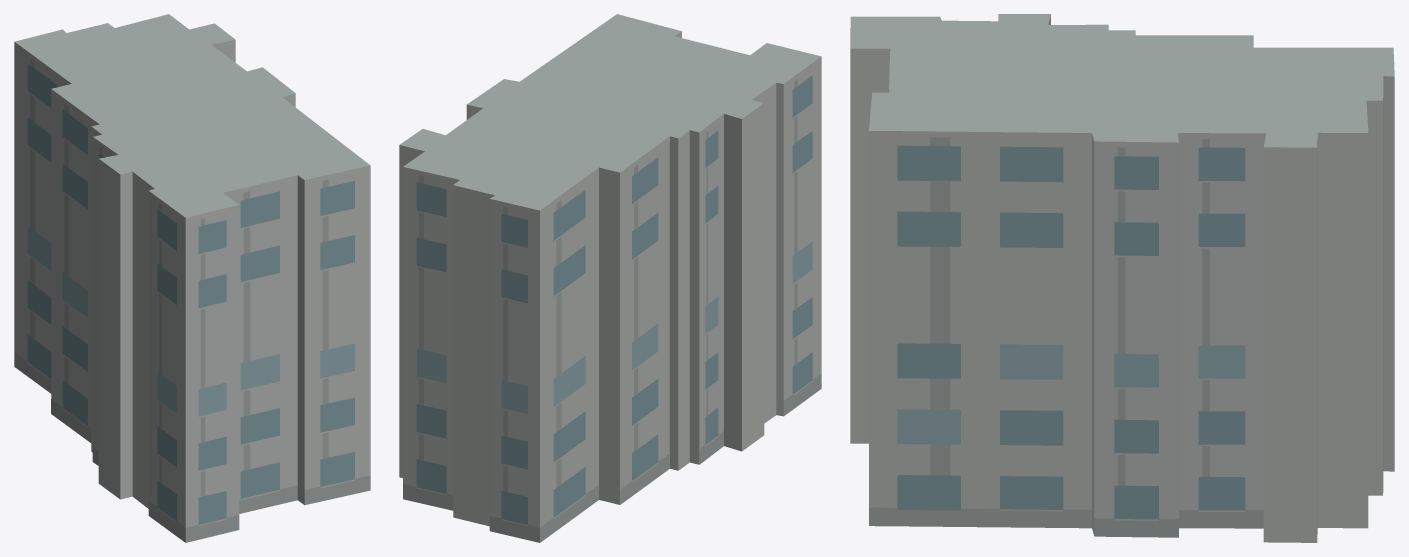
File: survey-upis-33002705.glb
The picture shows the model from 3 angles, left to right: view 1: azimuth 30°, elevation 25°; view 2: azimuth 150°, elevation 25°; view 3: azimuth 270°, elevation 25°; orthographic projection. The views are drawn at different scales.
Parts seen in each view (by area): view 1: survey-upis-33002705.tmp; view 2: survey-upis-33002705.tmp; view 3: survey-upis-33002705.tmp.
Boxes of the visible parts, <box> form: survey-upis-33002705.tmp: <box>14,14,370,542</box>; survey-upis-33002705.tmp: <box>399,14,821,542</box>; survey-upis-33002705.tmp: <box>850,14,1394,542</box>.
Bounding box in the file's own units: 12.13 × 16.7 × 20.87.
